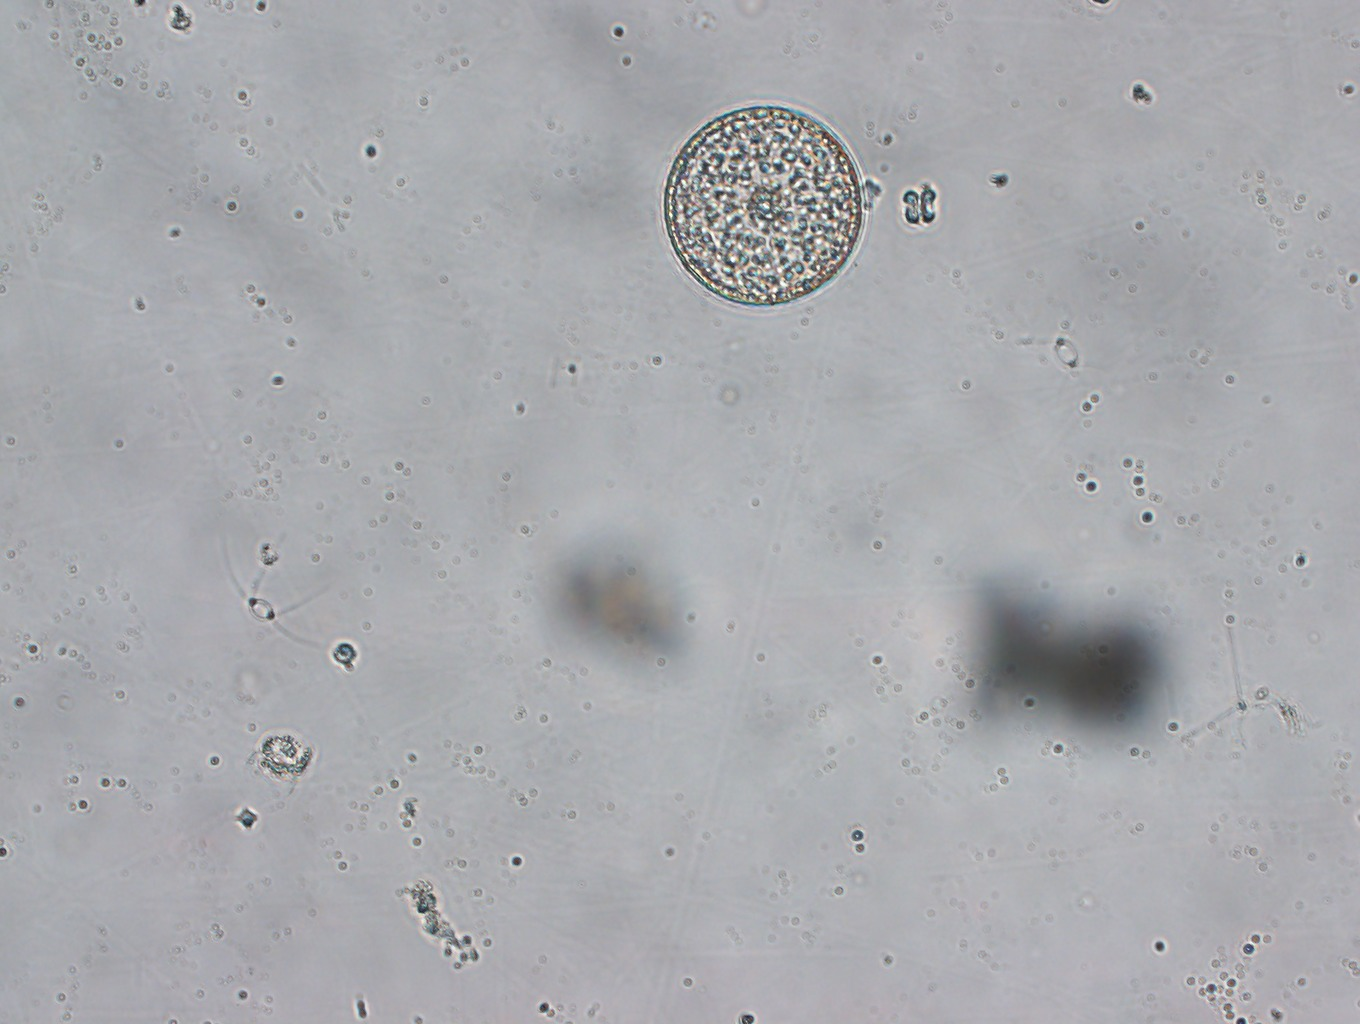coscinodiscus: (661, 103, 870, 309)
